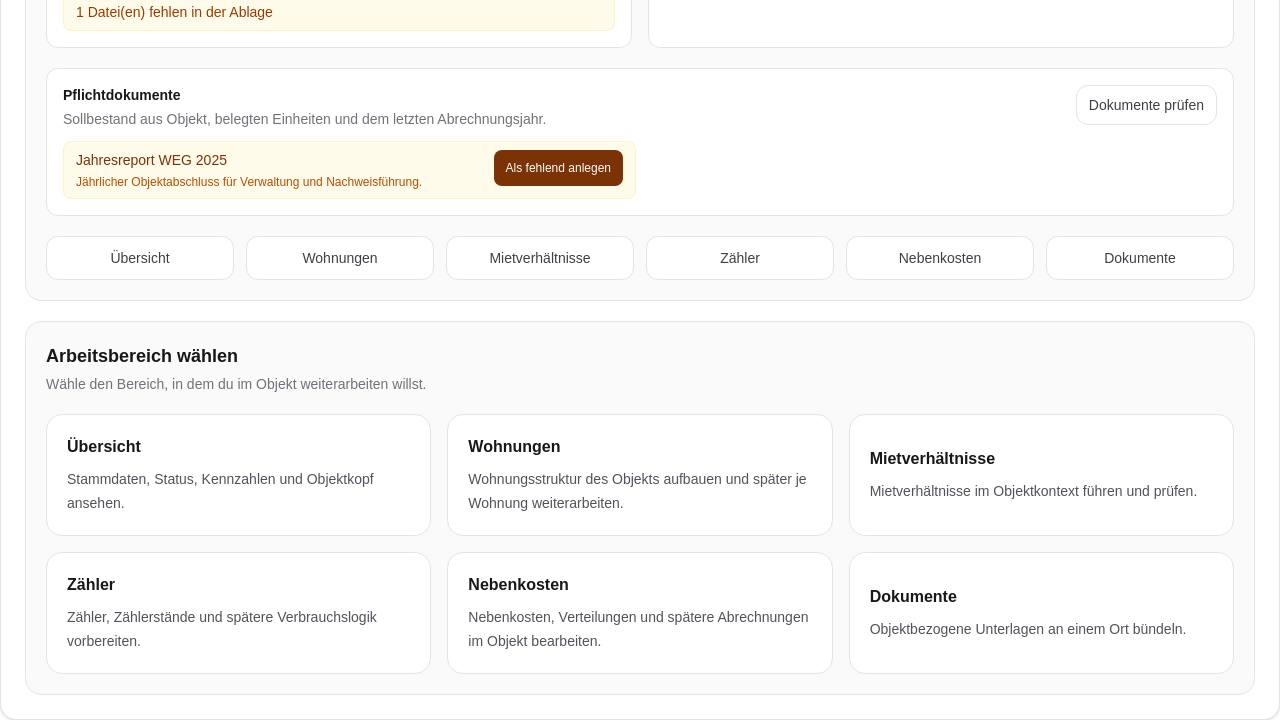
it: ObjectDetail › shows the object document cockpit with filtered object documents
(page scrolled)
Click the button "Dokumente Objektbezogene Unterlagen an einem Ort bündeln." at (913, 596), box [849,552,1234,674]
(page scrolled)
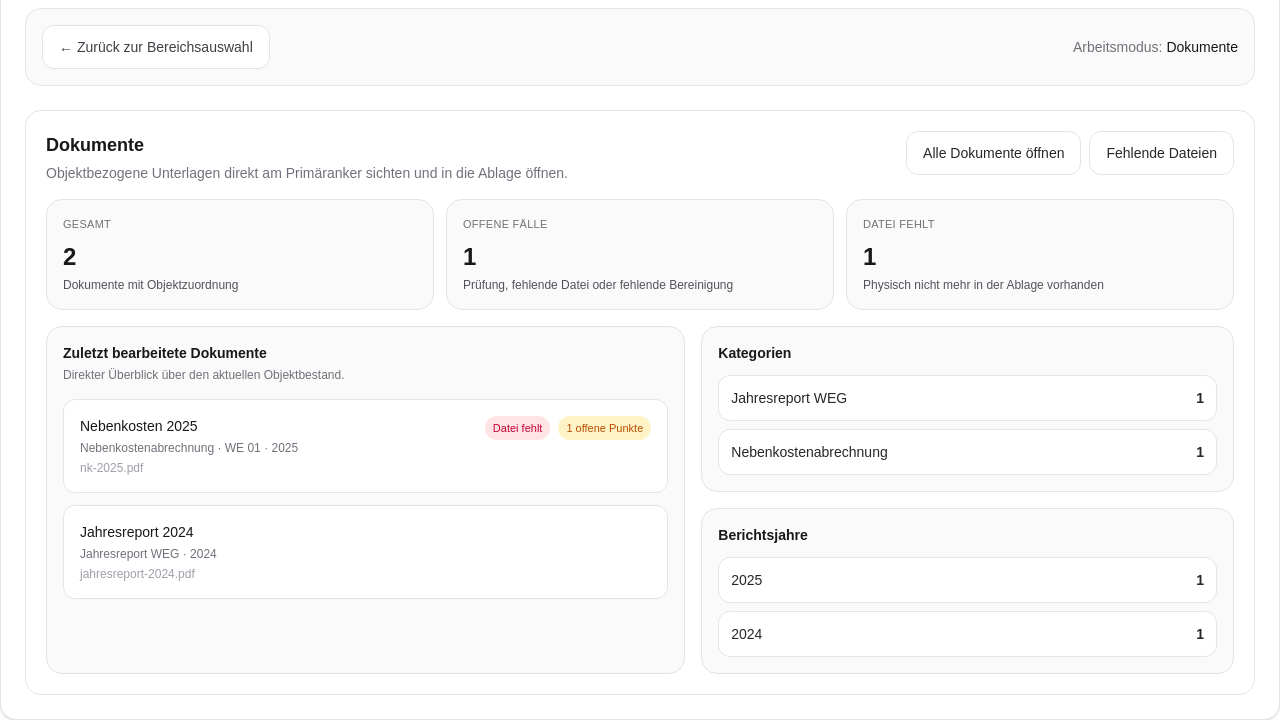
Result: the text "Dokumente mit Objektzuordnung" is shown at [63,278,238,292]
Result: the text "Prüfung, fehlende Datei oder fehlende Bereinigung" is shown at [463,278,733,292]
Result: the text "2" is shown at [63,242,76,270]
